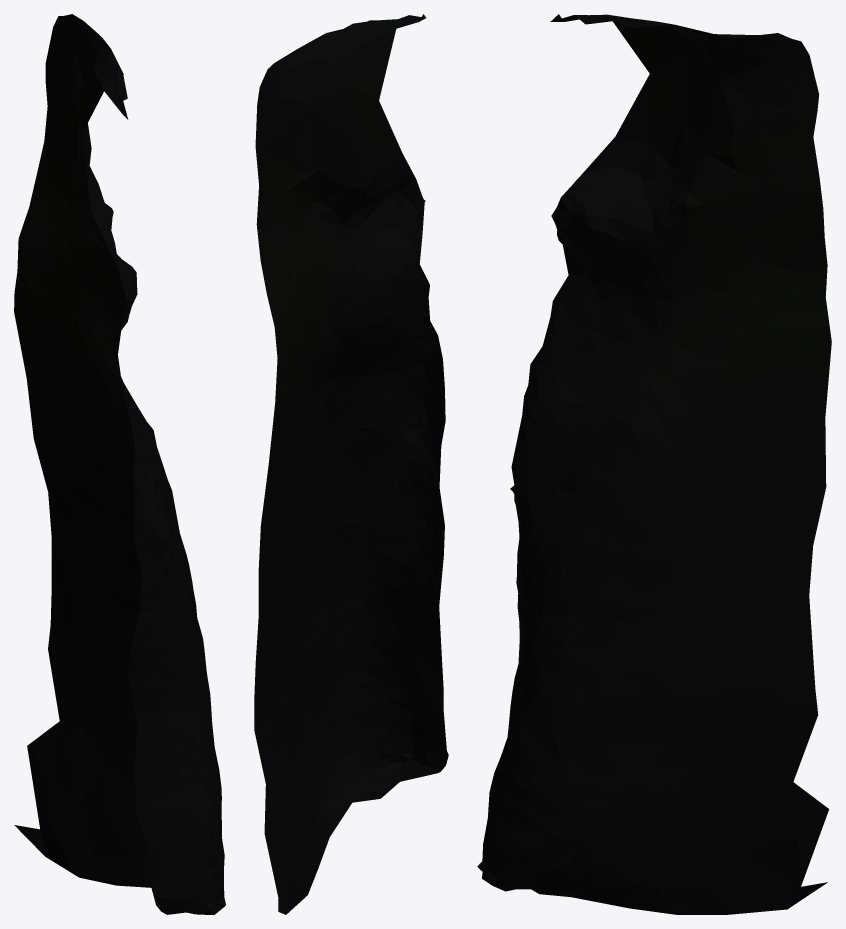
The model's file is texturedMesh.glb.
3 renders of one model, left to right at view 1: azimuth 30°, elevation 25°; view 2: azimuth 150°, elevation 25°; view 3: azimuth 270°, elevation 25°, orthographic. The views are drawn at different scales.
Visible parts, largest first — view 1: texturedMesh; view 2: texturedMesh; view 3: texturedMesh.
Boxes of the visible parts, x1,y1,x2,y2 form: texturedMesh: (14, 14, 225, 914); texturedMesh: (254, 14, 448, 914); texturedMesh: (477, 14, 831, 914).
Bounding box in the file's own units: 0.9944 × 8.1 × 2.92.
1 material, 1 textured.
